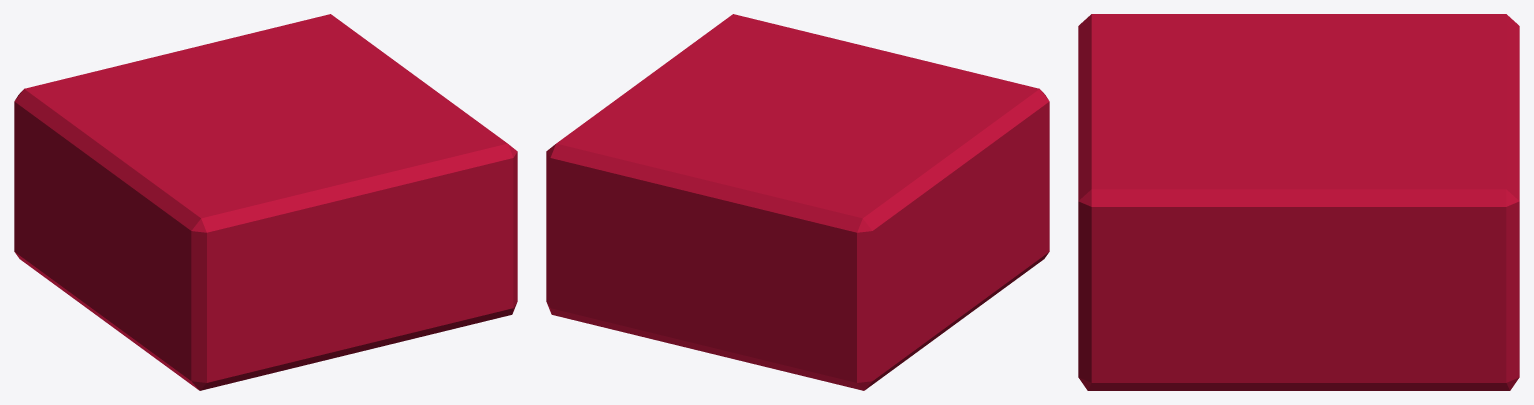
The model's file is Part_1X1_low_simple.FBX.
The picture shows the model from 3 angles, left to right: view 1: azimuth 30°, elevation 25°; view 2: azimuth 150°, elevation 25°; view 3: azimuth 270°, elevation 25°; orthographic projection. The views are drawn at different scales.
Parts seen in each view (by area): view 1: Part_1X1_low_simple; view 2: Part_1X1_low_simple; view 3: Part_1X1_low_simple.
Part boxes in pixels (left/top/right/bottom): Part_1X1_low_simple: left=14, top=14, right=517, bottom=390; Part_1X1_low_simple: left=546, top=14, right=1049, bottom=390; Part_1X1_low_simple: left=1078, top=14, right=1519, bottom=390.
Bounding box in the file's own units: 100 × 100 × 50.
